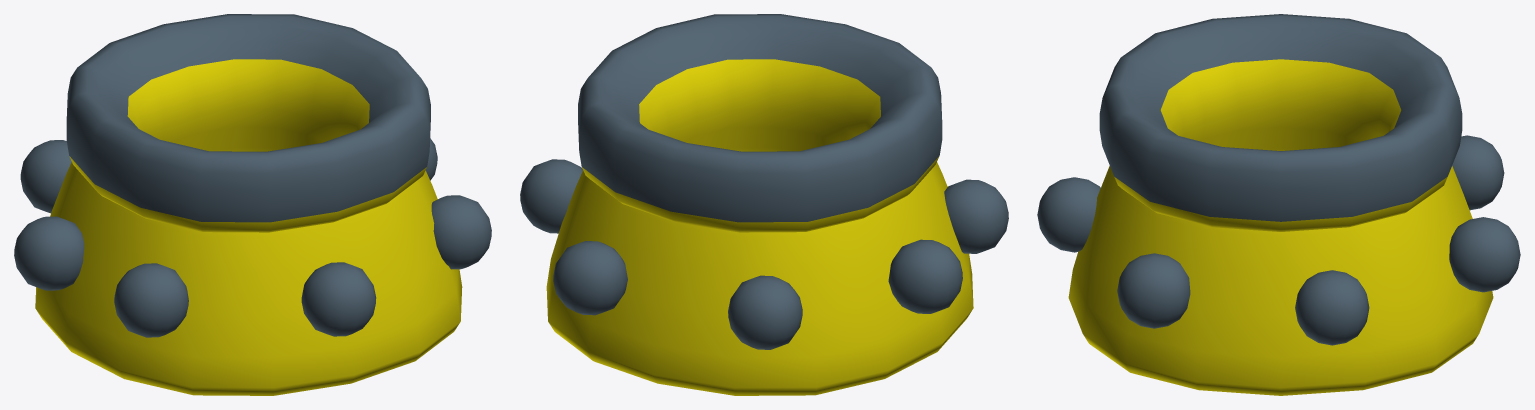
File: fire and ice shooter.fbx
The picture shows the model from 3 angles, left to right: view 1: azimuth 30°, elevation 25°; view 2: azimuth 150°, elevation 25°; view 3: azimuth 270°, elevation 25°; orthographic projection.
Parts seen in each view (by area): view 1: pCube1, pasted__pasted__pasted__pasted__pasted__pasted__pCube2, pCube2, pasted__pasted__pasted__pasted__pasted__pCube2, pasted__pCube2, pasted__pasted__pasted__pasted__pCube2; view 2: pCube1, pasted__pasted__pasted__pasted__pCube2, pasted__pasted__pasted__pCube2, pasted__pasted__pasted__pasted__pasted__pCube2, pasted__pasted__pasted__pasted__pasted__pasted__pCube2, pasted__pasted__pCube2; view 3: pCube1, pasted__pasted__pCube2, pasted__pCube2, pasted__pasted__pasted__pCube2, pCube2, pasted__pasted__pasted__pasted__pCube2.
Part boxes in pixels (x1,y1,x2,y2): pCube1: (35, 14, 462, 395); pasted__pasted__pasted__pasted__pasted__pasted__pCube2: (114, 263, 188, 337); pCube2: (301, 262, 376, 336); pasted__pasted__pasted__pasted__pasted__pCube2: (14, 216, 84, 290); pasted__pCube2: (431, 195, 491, 269); pasted__pasted__pasted__pasted__pCube2: (20, 140, 71, 213); pCube1: (546, 14, 973, 395); pasted__pasted__pasted__pasted__pCube2: (728, 275, 802, 349); pasted__pasted__pasted__pCube2: (553, 241, 627, 315); pasted__pasted__pasted__pasted__pasted__pCube2: (888, 239, 962, 313); pasted__pasted__pasted__pasted__pasted__pasted__pCube2: (944, 179, 1008, 253); pasted__pasted__pCube2: (520, 159, 582, 233); pCube1: (1068, 14, 1493, 395); pasted__pasted__pCube2: (1295, 270, 1369, 345); pasted__pCube2: (1117, 253, 1190, 328); pasted__pasted__pasted__pCube2: (1449, 217, 1520, 292); pCube2: (1037, 177, 1100, 252); pasted__pasted__pasted__pasted__pCube2: (1452, 135, 1504, 210).
Size of the model in its own units: 18.9 by 9.57 by 18.65.
